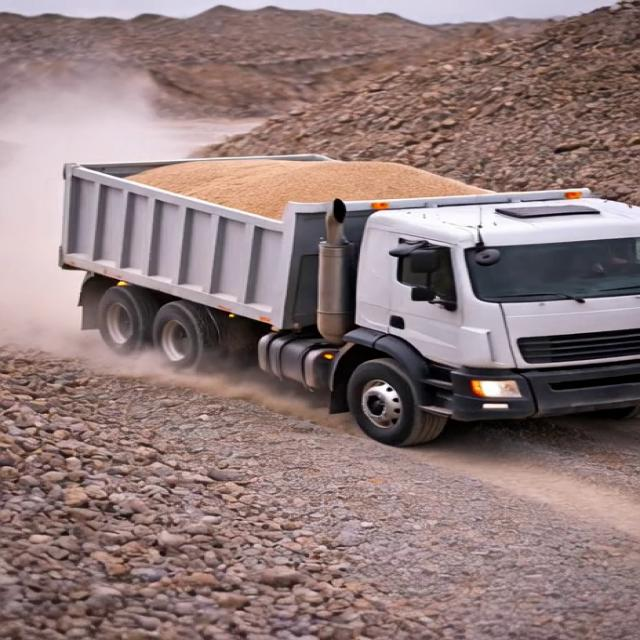Box: (60, 149, 590, 215)
Truck: (49, 150, 640, 454)
